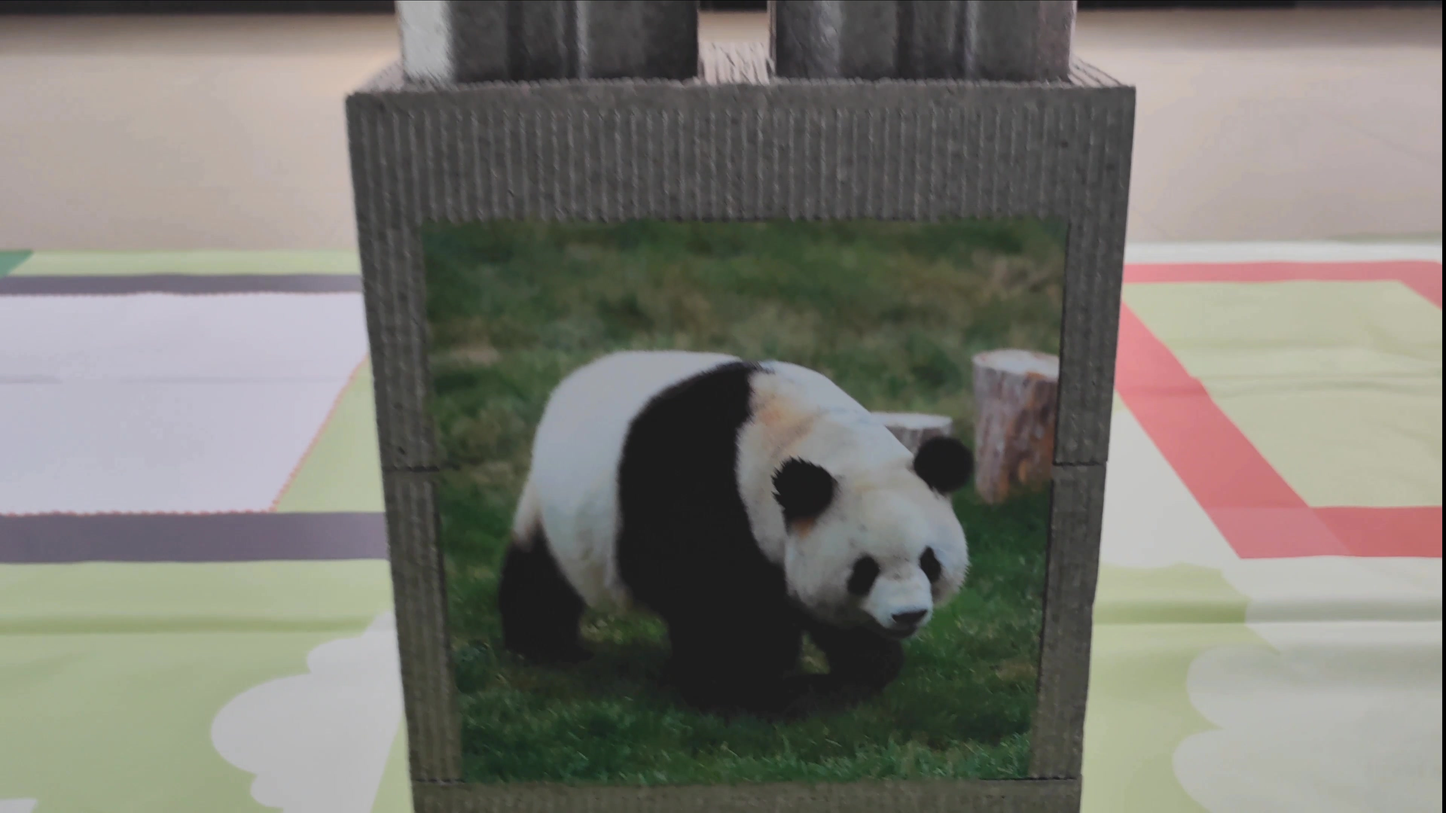panda: (500, 301, 981, 723)
